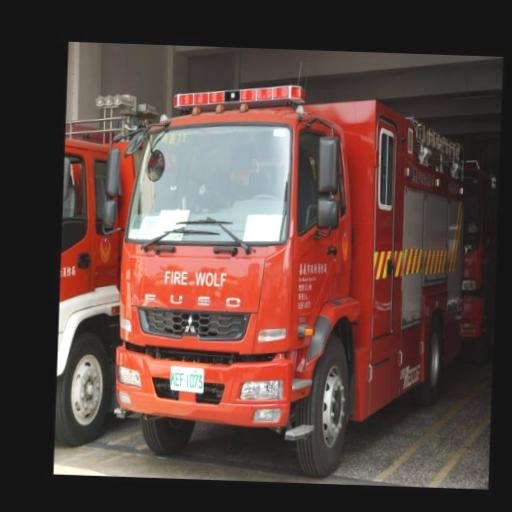fire truck: (110, 81, 491, 494)
